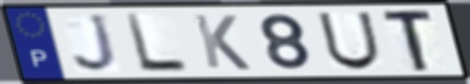8: (258, 12, 314, 71)
J: (70, 12, 122, 74)
K: (190, 12, 254, 72)
L: (122, 12, 192, 74)
T: (380, 7, 436, 74)
U: (314, 10, 383, 72)
